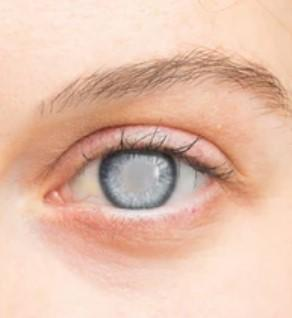eye: (98, 149, 179, 210)
